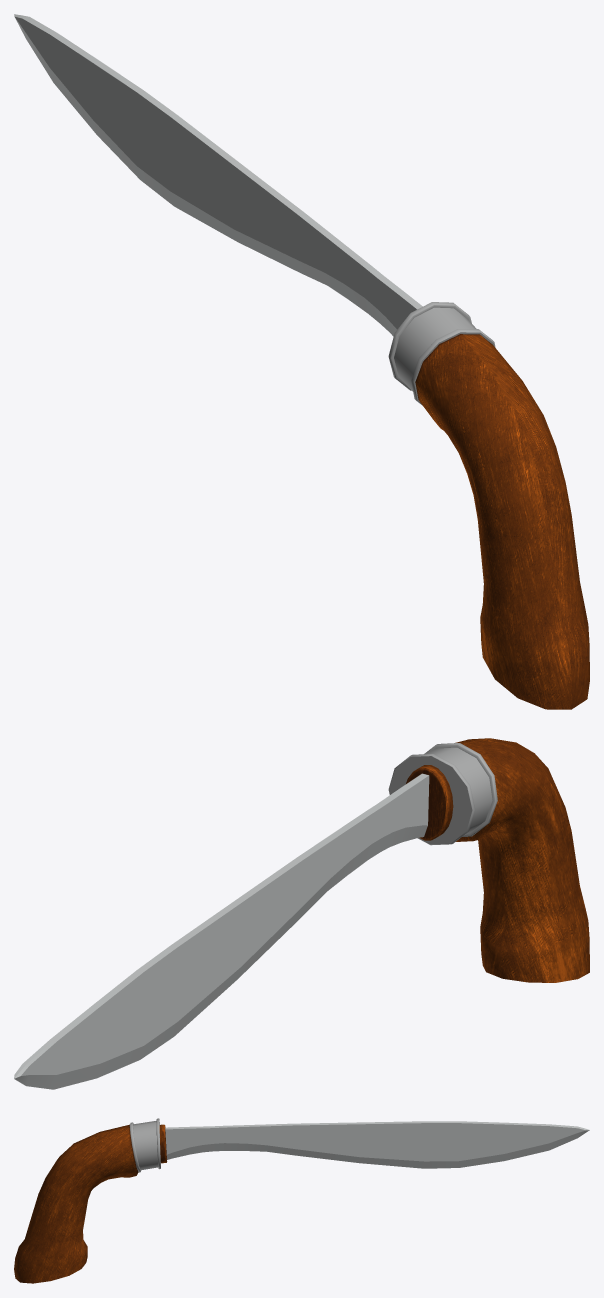
File: sulawesi_badik.glb
The picture shows the model from 3 angles, top to bottom: view 1: azimuth 30°, elevation 25°; view 2: azimuth 150°, elevation 25°; view 3: azimuth 270°, elevation 25°; orthographic projection. The views are drawn at different scales.
Parts seen in each view (by area): view 1: Pisau_Badik_Sulawesi; view 2: Pisau_Badik_Sulawesi; view 3: Pisau_Badik_Sulawesi.
Boxes of the visible parts, x1,y1,x2,y2 form: Pisau_Badik_Sulawesi: [14, 14, 589, 709]; Pisau_Badik_Sulawesi: [14, 738, 589, 1089]; Pisau_Badik_Sulawesi: [14, 1118, 589, 1283].
Size of the model in its own units: 0.00586 by 0.02 by 0.0662.
Materials: 1 (1 with a texture image).
